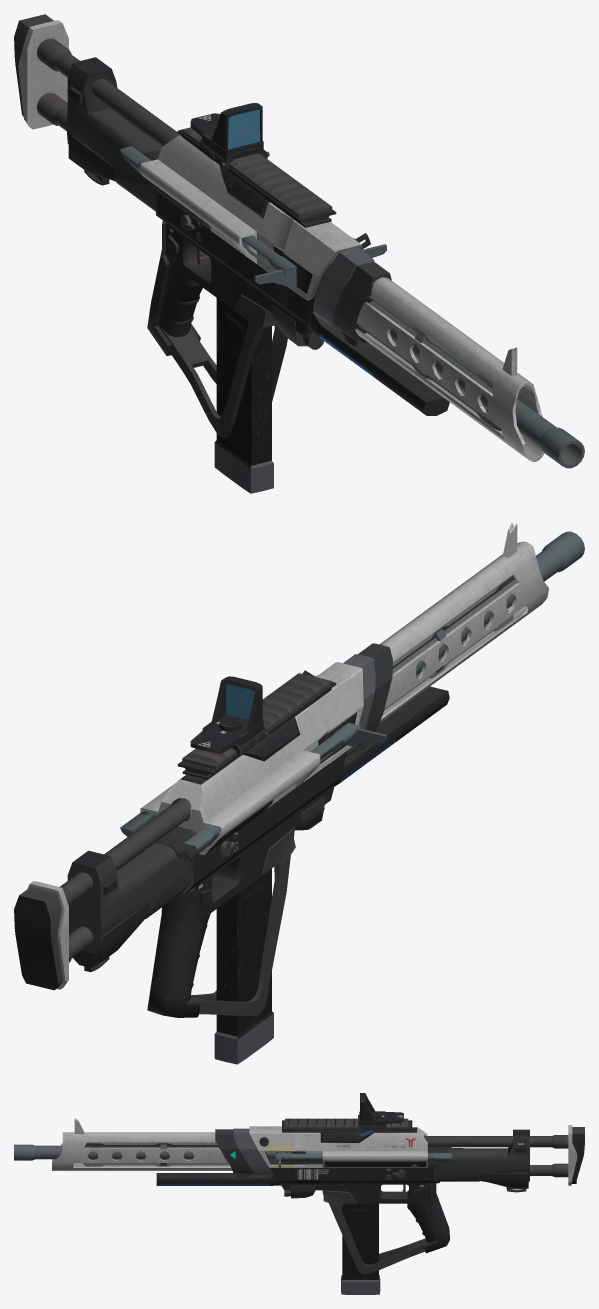
Rendered from gun2.glb.
3 renders of one model, top to bottom at view 1: azimuth 30°, elevation 25°; view 2: azimuth 150°, elevation 25°; view 3: azimuth 270°, elevation 25°, orthographic. The views are drawn at different scales.
Parts seen in each view (by area): view 1: Object_2; view 2: Object_2; view 3: Object_2.
Part boxes in pixels (left/top/right/bottom): Object_2: left=14, top=14, right=584, bottom=493; Object_2: left=14, top=522, right=584, bottom=1064; Object_2: left=14, top=1093, right=584, bottom=1294.
Bounding box in the file's own units: 0.1064 × 0.2865 × 0.7602.
1 material, 1 textured.
